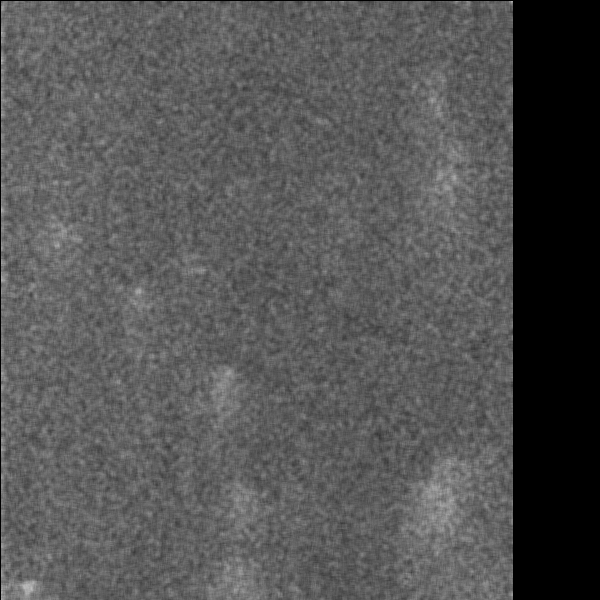spark: (410, 461, 461, 594), (2, 574, 44, 599), (216, 363, 242, 392), (125, 281, 150, 308), (438, 169, 460, 189), (46, 235, 64, 255)
